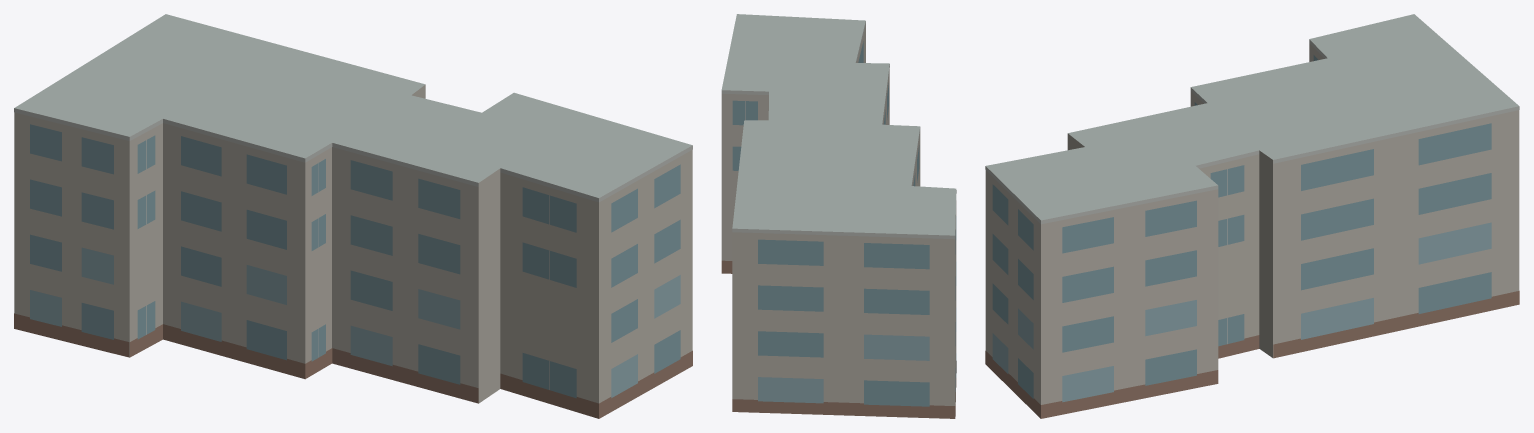
File: survey-upis-32681115.glb
3 renders of one model, left to right at view 1: azimuth 30°, elevation 25°; view 2: azimuth 150°, elevation 25°; view 3: azimuth 270°, elevation 25°, orthographic. The views are drawn at different scales.
Parts seen in each view (by area): view 1: survey-upis-32681115.tmp; view 2: survey-upis-32681115.tmp; view 3: survey-upis-32681115.tmp.
Part boxes in pixels (x1,y1,x2,y2): survey-upis-32681115.tmp: [14, 14, 692, 418]; survey-upis-32681115.tmp: [721, 14, 956, 418]; survey-upis-32681115.tmp: [985, 14, 1519, 418].
Bounding box in the file's own units: 28.14 × 12.6 × 30.74.
